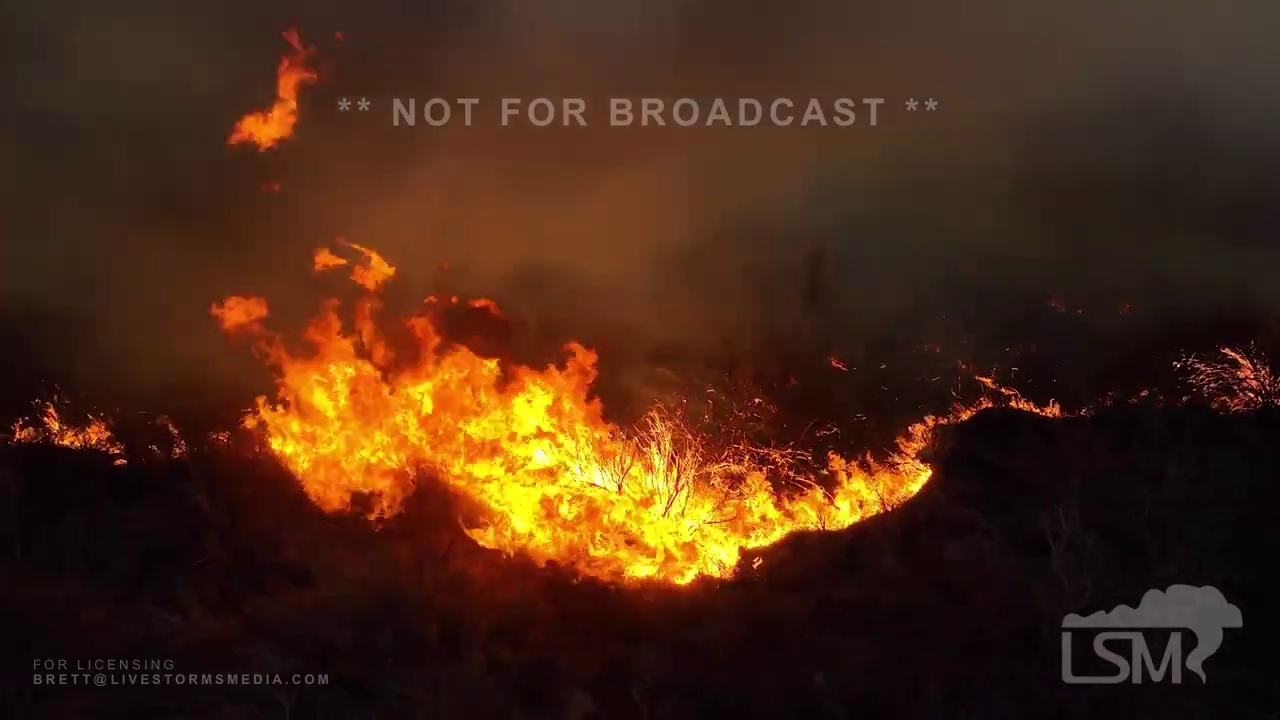forest_fire: (212, 295, 1061, 583), (228, 30, 315, 150), (1179, 347, 1279, 410), (15, 403, 121, 453), (315, 243, 394, 291)
